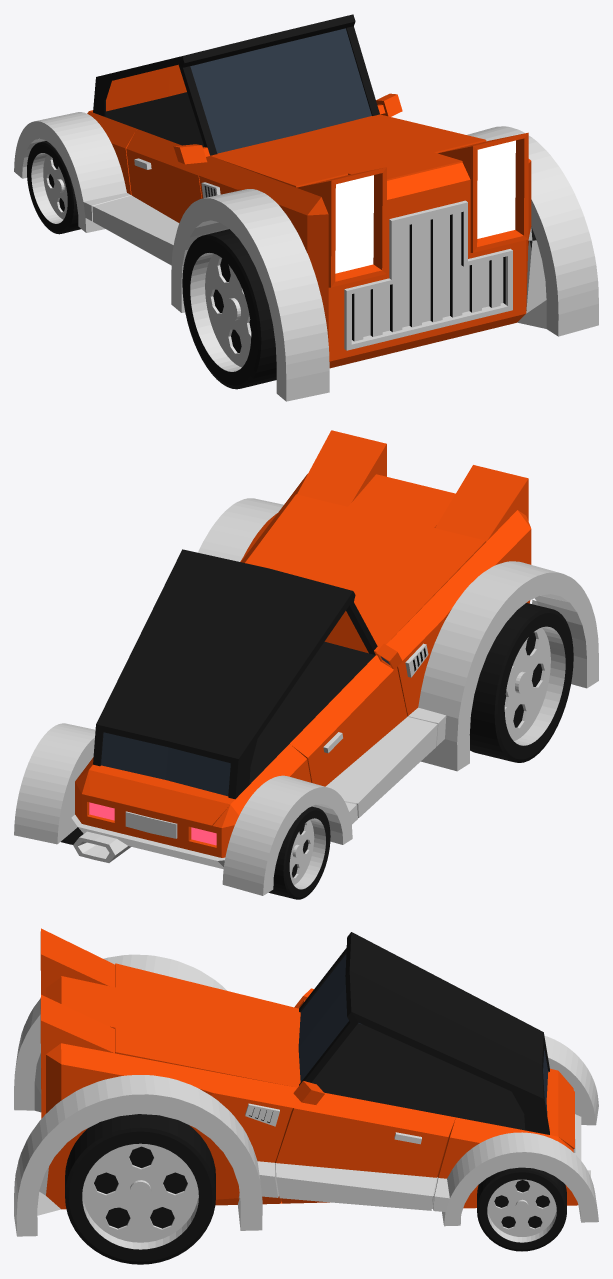
3 views of the same model, one above another, from view 1: azimuth 30°, elevation 25°; view 2: azimuth 150°, elevation 25°; view 3: azimuth 270°, elevation 25° (orthographic). The views are drawn at different scales.
Parts seen in each view (by area): view 1: Cube, Wheels_forward, Wheels_back; view 2: Cube, Wheels_forward, Wheels_back; view 3: Cube, Wheels_forward, Wheels_back.
Part boxes in pixels (<box>): Cube: <box>14,14,598,401</box>; Wheels_forward: <box>182,227,536,389</box>; Wheels_back: <box>27,141,80,234</box>; Cube: <box>14,430,598,895</box>; Wheels_forward: <box>469,603,573,762</box>; Wheels_back: <box>61,806,330,899</box>; Cube: <box>14,928,598,1236</box>; Wheels_forward: <box>65,1114,215,1264</box>; Wheels_back: <box>477,1167,566,1251</box>.
Bounding box in the file's own units: 2.23 × 1.57 × 3.76.
